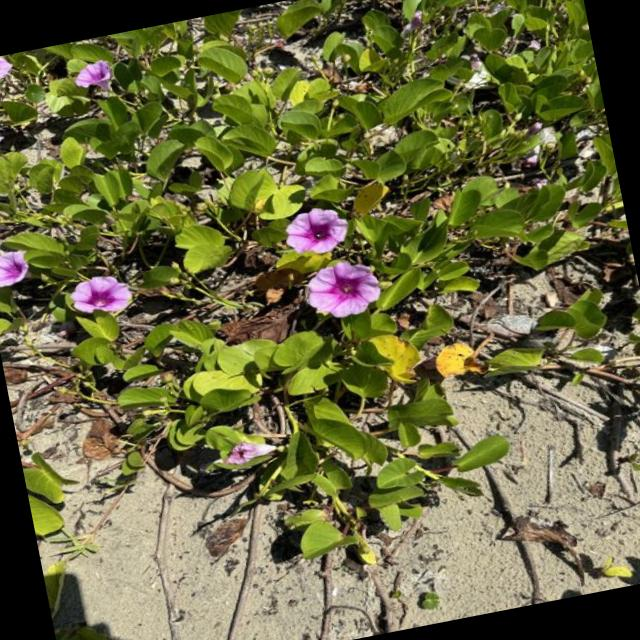ipomoea: (296, 252, 388, 328), (276, 200, 356, 264), (63, 268, 138, 325), (426, 335, 490, 387), (214, 432, 282, 474), (67, 56, 120, 100), (0, 245, 36, 294), (0, 53, 19, 93)
